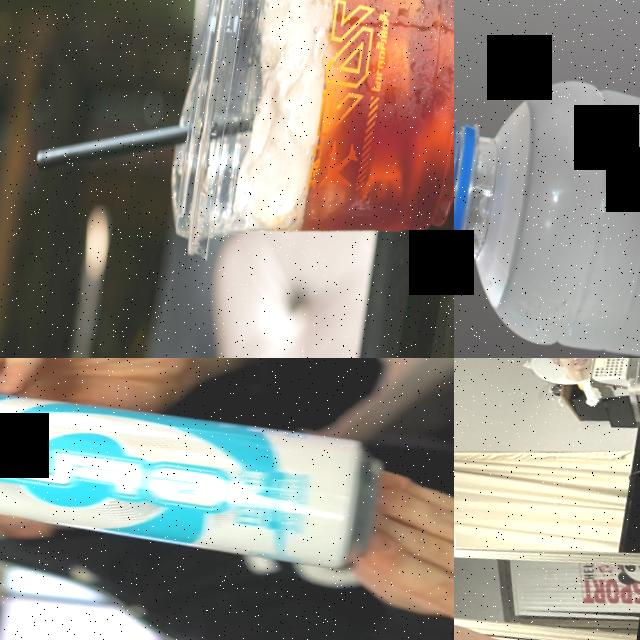bottle: (454, 57, 640, 358)
can: (0, 365, 413, 576)
cup: (152, 0, 454, 290)
